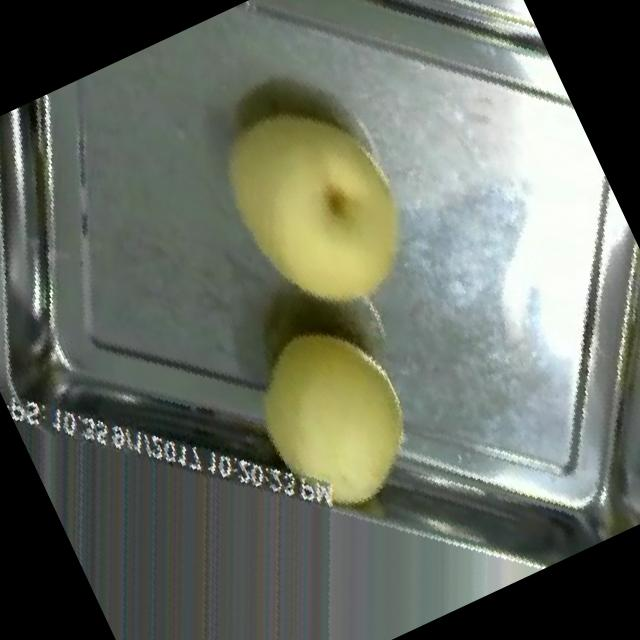Fruit: (150, 29, 476, 373), (202, 282, 458, 554)
